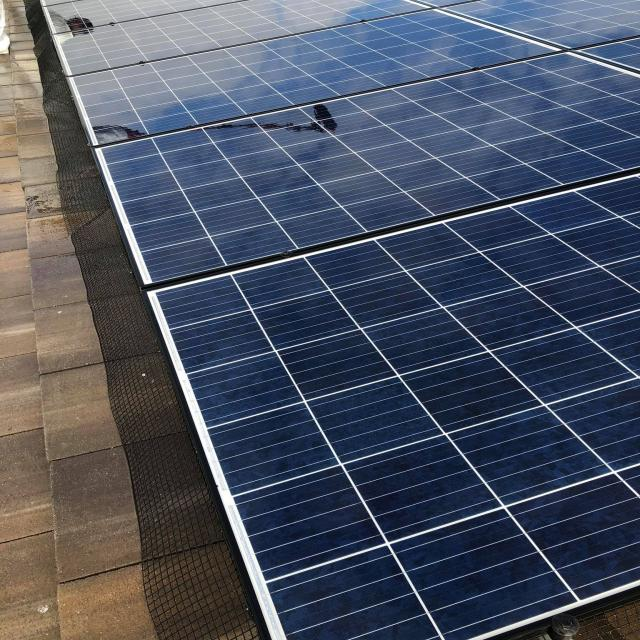clean-solar-panel: (42, 0, 640, 640)
